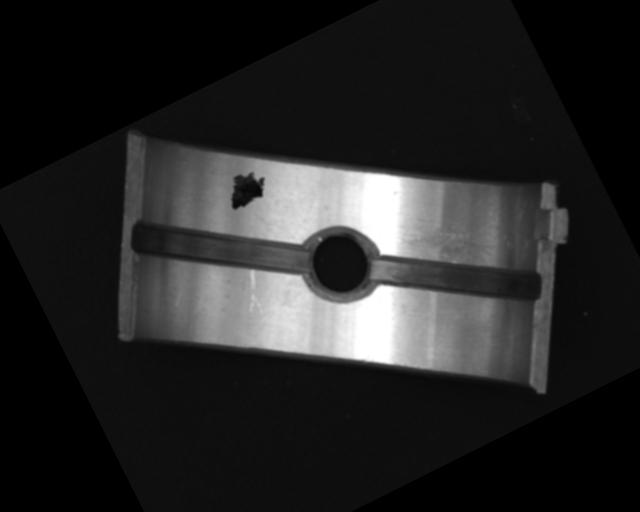blot: (220, 164, 272, 212)
gap: (126, 163, 312, 335), (368, 199, 550, 360)
hole: (291, 214, 391, 316)
nick: (231, 266, 273, 318)
scratch: (401, 201, 502, 293)
